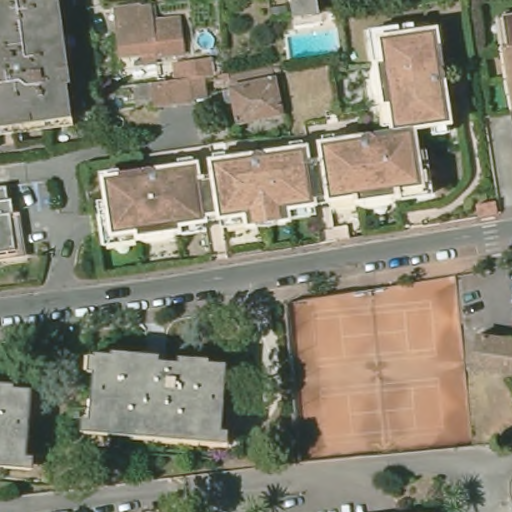pool: (281, 24, 344, 64), (193, 26, 221, 54)
